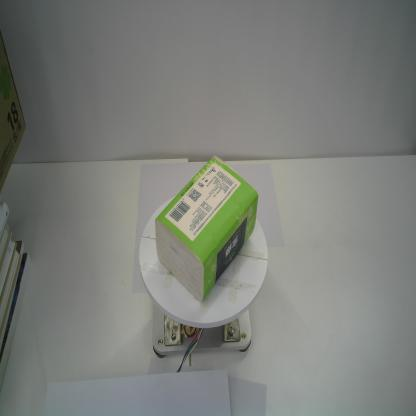Tissue: (151, 150, 261, 303)
